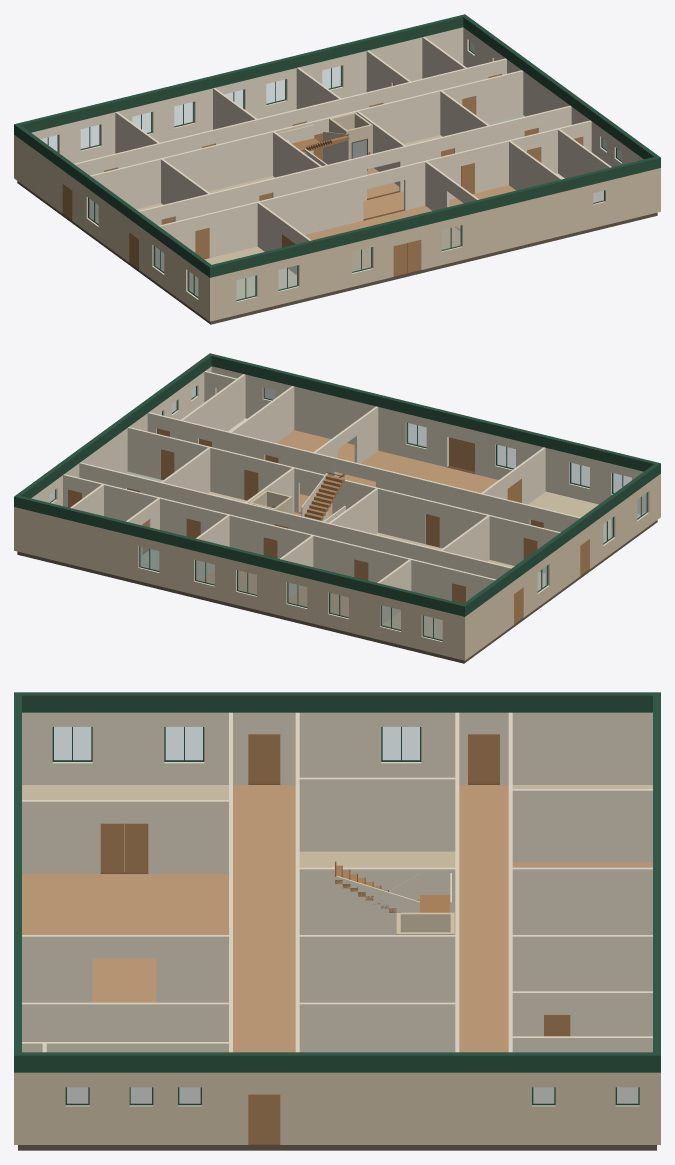
File: building-L1.glb
3 views of the same model, one above another, from view 1: azimuth 30°, elevation 25°; view 2: azimuth 150°, elevation 25°; view 3: azimuth 270°, elevation 25° (orthographic). The views are drawn at different scales.
Visible parts, largest first — view 1: FASCIA-L1, WALL-L1-025, WALL-L1-001, WALL-L1-000, WALL-L1-016, WALL-L1-005, WALL-L1-017, WALL-L1-026, WALL-L1-027, SLAB-L1, WALL-L1-046, WALL-L1-018 (+37 smaller); view 2: FASCIA-L1, WALL-L1-025, WALL-L1-001, WALL-L1-000, WALL-L1-016, WALL-L1-005, WALL-L1-012, WALL-L1-011, WALL-L1-026, WALL-L1-027, WALL-L1-023, ROOM-L1-LOBBY (+36 smaller); view 3: FASCIA-L1, WALL-L1-046, ROOM-L1-CORR, ROOM-L1-LOBBY, WALL-L1-045, WALL-L1-026, ROOM-L1-NCORR, WALL-L1-029, WALL-L1-028, WALL-L1-027, WALL-L1-037, WALL-L1-030 (+33 smaller).
Boxes of the visible parts, x1,y1,x2,y2 form: FASCIA-L1: (14, 14, 660, 277); WALL-L1-025: (14, 27, 463, 179); WALL-L1-001: (421, 168, 660, 269); WALL-L1-000: (207, 233, 393, 321); WALL-L1-016: (90, 121, 313, 218); WALL-L1-005: (209, 176, 363, 257); WALL-L1-017: (327, 85, 462, 143); WALL-L1-026: (139, 226, 207, 319); WALL-L1-027: (72, 177, 129, 262); SLAB-L1: (17, 181, 657, 324); WALL-L1-046: (463, 27, 576, 124); WALL-L1-018: (475, 70, 523, 123); FASCIA-L1: (14, 353, 660, 616); WALL-L1-025: (14, 507, 467, 660); WALL-L1-001: (211, 366, 448, 467); WALL-L1-000: (475, 430, 660, 518); WALL-L1-016: (288, 513, 512, 579); WALL-L1-005: (376, 468, 530, 524); WALL-L1-012: (332, 479, 426, 543); WALL-L1-011: (439, 503, 524, 565); WALL-L1-026: (590, 475, 658, 568); WALL-L1-027: (523, 533, 580, 617); WALL-L1-023: (82, 478, 187, 536); ROOM-L1-LOBBY: (341, 450, 498, 492); FASCIA-L1: (14, 692, 660, 1072); WALL-L1-046: (280, 1072, 652, 1144); ROOM-L1-CORR: (233, 785, 295, 1052); ROOM-L1-LOBBY: (22, 874, 228, 1002); WALL-L1-045: (22, 1072, 248, 1144); WALL-L1-026: (22, 712, 248, 784); ROOM-L1-NCORR: (459, 785, 508, 1052); WALL-L1-029: (297, 777, 458, 851); WALL-L1-028: (500, 712, 652, 784); WALL-L1-027: (280, 712, 467, 784); WALL-L1-037: (295, 935, 458, 1002); WALL-L1-030: (509, 789, 652, 862).
Size of the model in its own units: 32.3 by 4.3 by 24.3.
